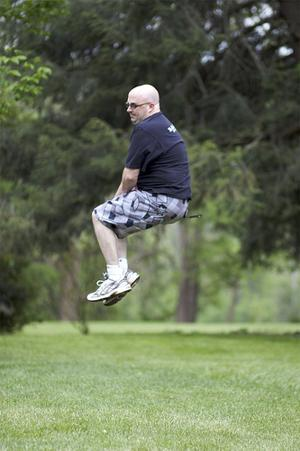person: (87, 83, 191, 308)
